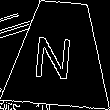N_N: (37, 27, 82, 81)
